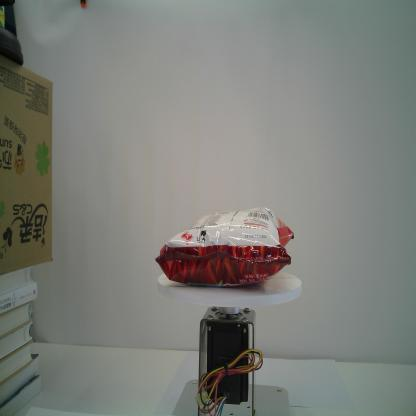Puffed Food: (154, 206, 294, 288)
